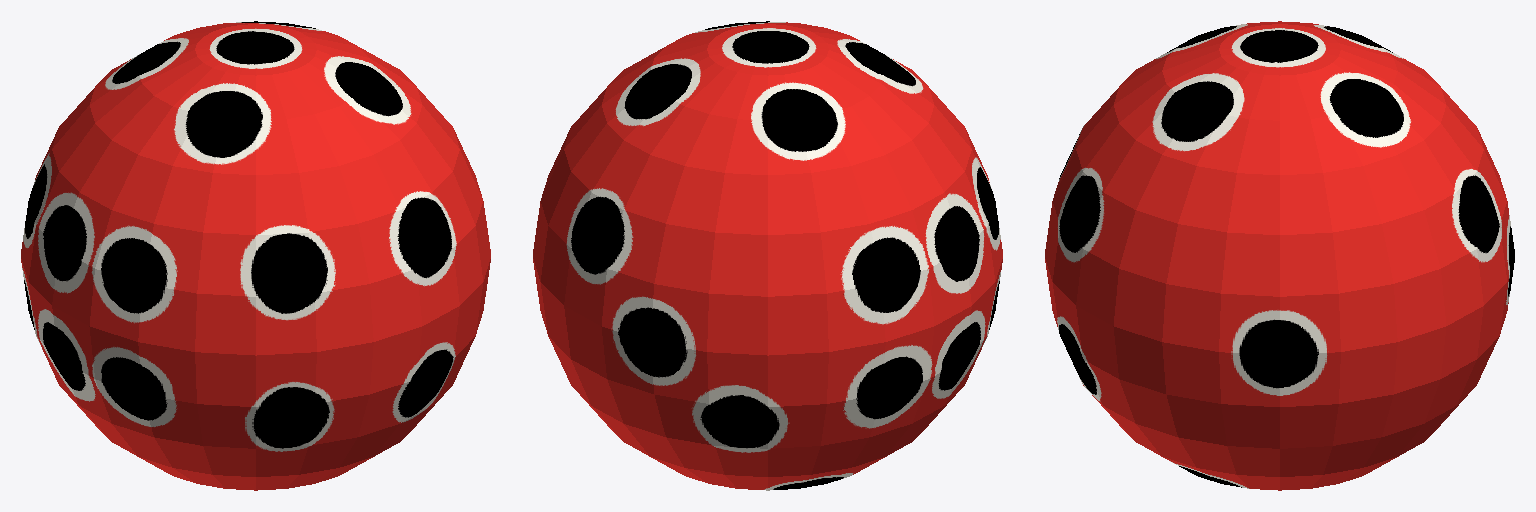
3 renders of one model, left to right at view 1: azimuth 30°, elevation 25°; view 2: azimuth 150°, elevation 25°; view 3: azimuth 270°, elevation 25°, orthographic.
Parts seen in each view (by area): view 1: Sphere_None; view 2: Sphere_None; view 3: Sphere_None.
Boxes of the visible parts, x1=… form: Sphere_None: x1=21, y1=21, x2=490, y2=490; Sphere_None: x1=533, y1=21, x2=1002, y2=490; Sphere_None: x1=1045, y1=21, x2=1514, y2=490.
Size of the model in its own units: 2 by 2 by 2.
1 materials, 1 textured.